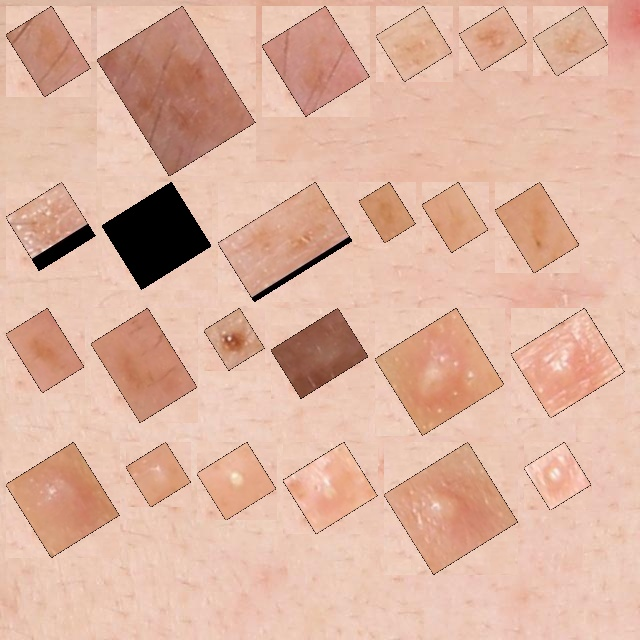hypertrophic_scar: (282, 319, 357, 387)
melasma: (108, 17, 244, 165), (229, 193, 341, 290), (102, 319, 186, 411), (273, 17, 359, 105), (113, 193, 200, 278), (17, 193, 84, 259), (506, 193, 568, 262), (17, 17, 79, 85), (17, 319, 73, 381), (387, 17, 441, 70), (544, 17, 597, 65), (433, 193, 477, 241), (470, 17, 516, 60), (370, 193, 404, 232)
nevus: (215, 319, 254, 359)
pustule: (395, 453, 507, 563), (386, 319, 493, 424), (17, 453, 108, 546), (522, 319, 614, 407), (294, 453, 366, 523), (208, 453, 265, 509), (535, 453, 580, 499)
